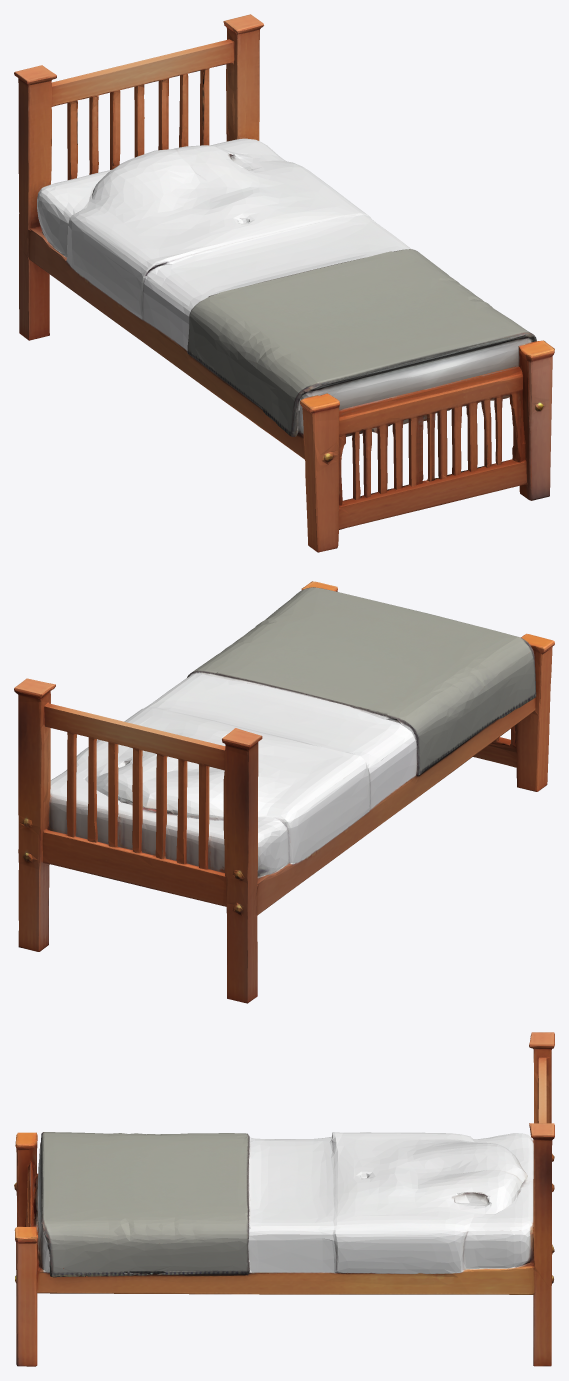
File: singlecot.glb
3 renders of one model, top to bottom at view 1: azimuth 30°, elevation 25°; view 2: azimuth 150°, elevation 25°; view 3: azimuth 270°, elevation 25°, orthographic. The views are drawn at different scales.
Parts seen in each view (by area): view 1: world; view 2: world; view 3: world.
Boxes of the visible parts, box(x1,y1,x2,y2) form: world: box(14, 14, 554, 552); world: box(14, 581, 554, 1003); world: box(14, 1032, 554, 1366).
Size of the model in its own units: 0.4725 by 0.4763 by 1.
1 material, 1 textured.
